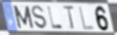6: (95, 5, 111, 32)
L: (78, 5, 96, 31), (47, 6, 64, 30)
M: (12, 5, 35, 30)
S: (32, 5, 49, 31)
T: (62, 6, 76, 31)
